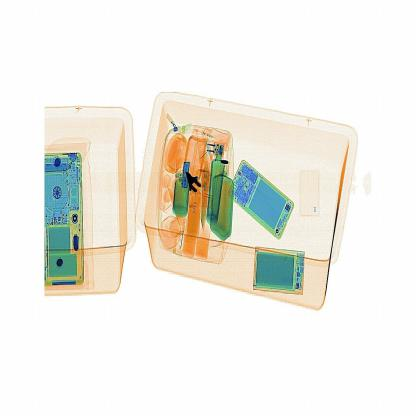gun: (181, 165, 205, 196)
